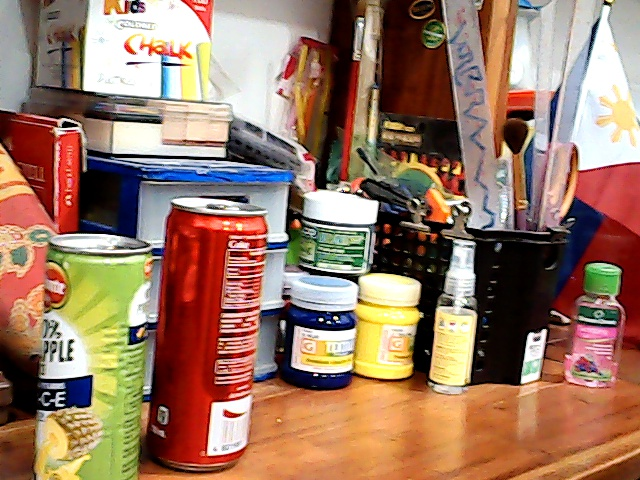Cola: (146, 193, 289, 480)
Pine Juice: (32, 218, 158, 480)
